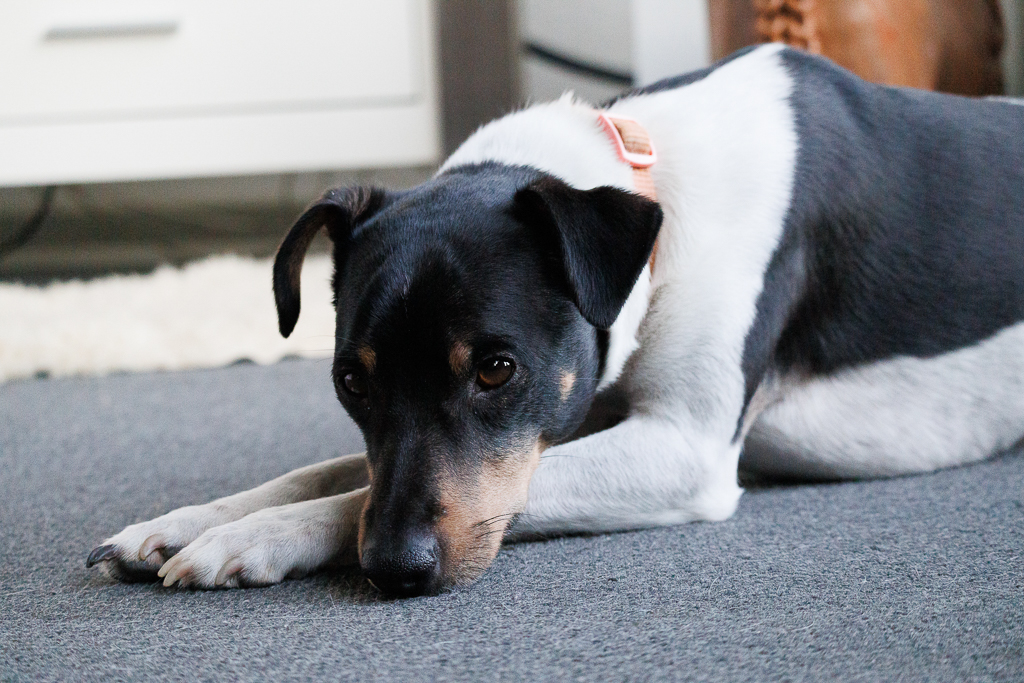Cattle: (702, 0, 1024, 109)
Dog: (68, 34, 1024, 605)
